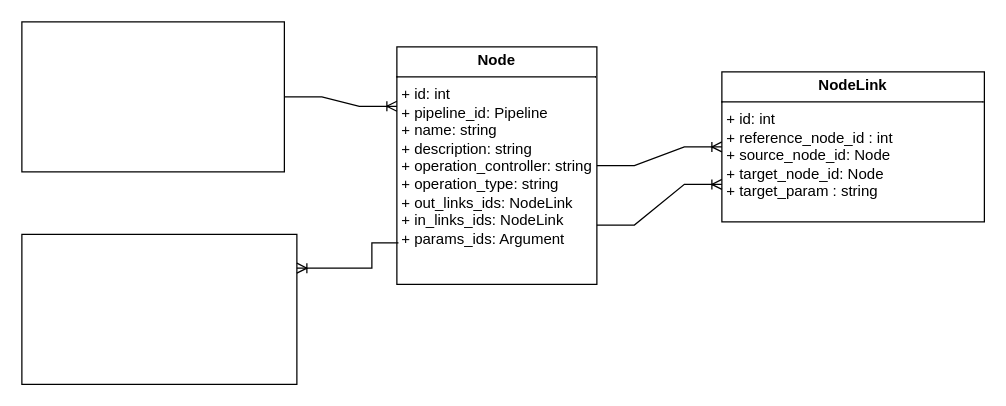
The diagram is 1006 pixels wide and 406 high, and some of its shapes have lost their labels. The centre of each missing label's shape, as x and y in pixels:
Parameter + id: int + node_id: Node + value: string (json) + param : string: (159,308)
Pipeline + id: int + name: string + nodes_ids: Node: (152,96)
